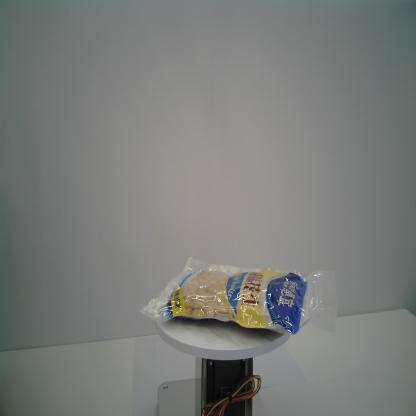Dried Fruit: (136, 256, 340, 344)
